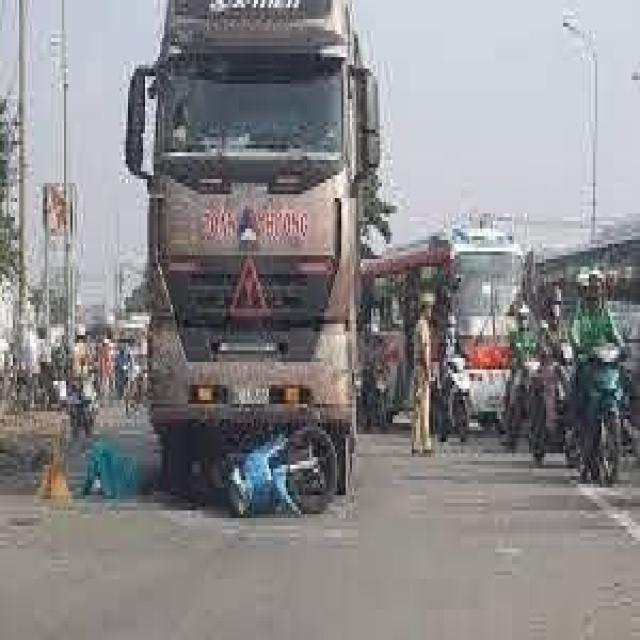accident: (174, 347, 373, 557)
